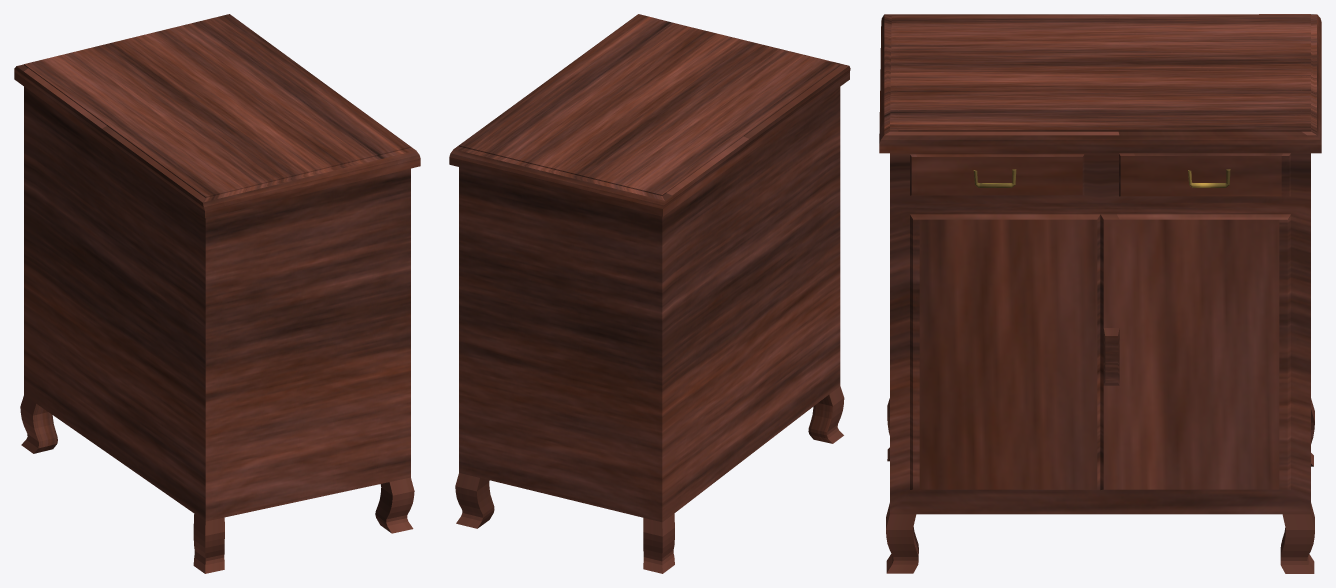
Rendered from Mueble2.fbx.
3 renders of one model, left to right at view 1: azimuth 30°, elevation 25°; view 2: azimuth 150°, elevation 25°; view 3: azimuth 270°, elevation 25°, orthographic. The views are drawn at different scales.
Visible parts, largest first — view 1: Cube; view 2: Cube; view 3: Cube.
Boxes of the visible parts, x1,y1,x2,y2 form: Cube: [14, 14, 420, 573]; Cube: [449, 14, 850, 573]; Cube: [879, 14, 1321, 573].
Size of the model in its own units: 232 by 384 by 348.
Materials: 2 (2 with a texture image).
